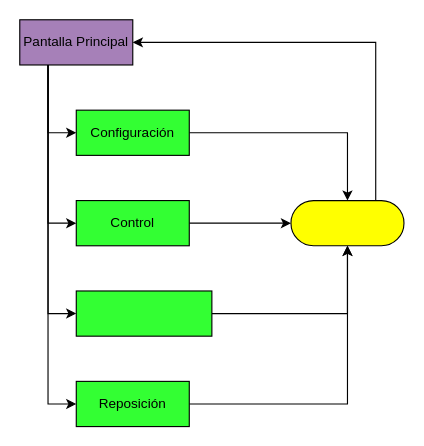
Image size: 424x446. Some labels were removed from this diagram. Here are the shapes that lost their labels. From the top down, the centre of each, then its label:
[347,222]: Back
[143,313]: Carga Parámetros
